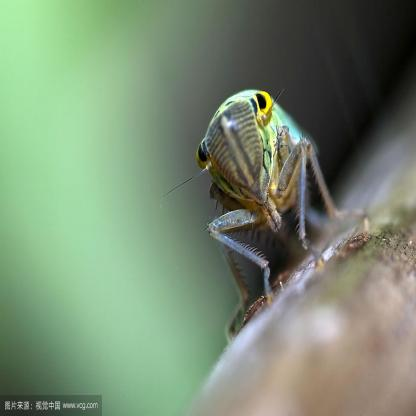Green-Leafhopper: (192, 84, 345, 298)
